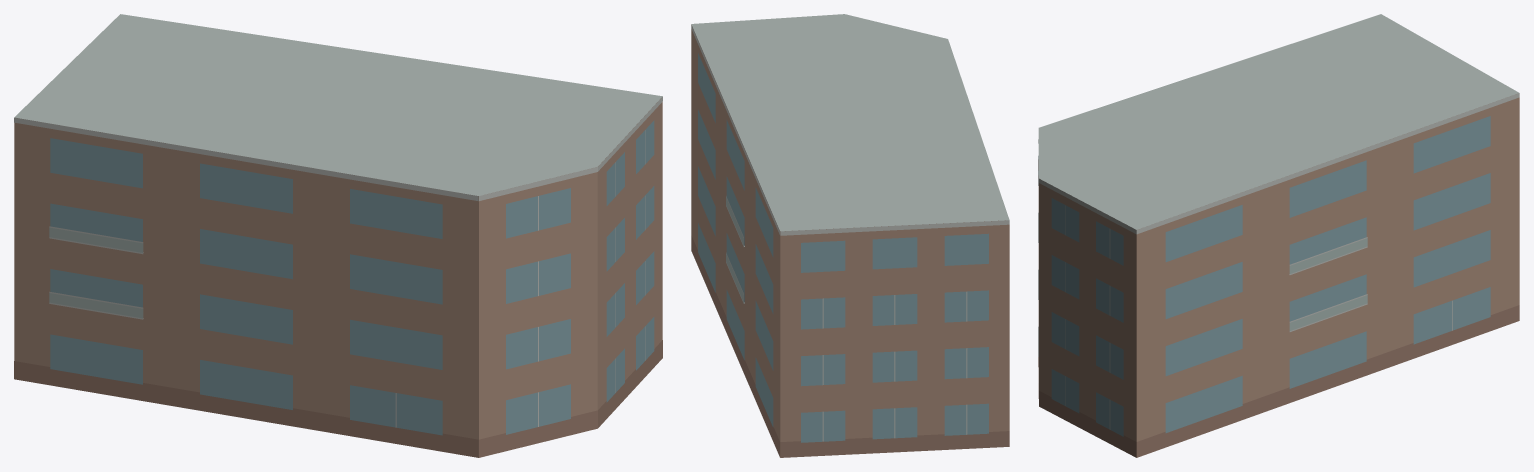
The model's file is survey-upis-32840997.glb.
3 views of the same model, side by side, from view 1: azimuth 30°, elevation 25°; view 2: azimuth 150°, elevation 25°; view 3: azimuth 270°, elevation 25° (orthographic). The views are drawn at different scales.
Parts seen in each view (by area): view 1: survey-upis-32840997.tmp; view 2: survey-upis-32840997.tmp; view 3: survey-upis-32840997.tmp.
Part boxes in pixels (left/top/right/bottom): survey-upis-32840997.tmp: left=14, top=14, right=662, bottom=457; survey-upis-32840997.tmp: left=691, top=14, right=1009, bottom=457; survey-upis-32840997.tmp: left=1038, top=14, right=1519, bottom=457.
Size of the model in its own units: 25.2 by 12.4 by 23.72.
